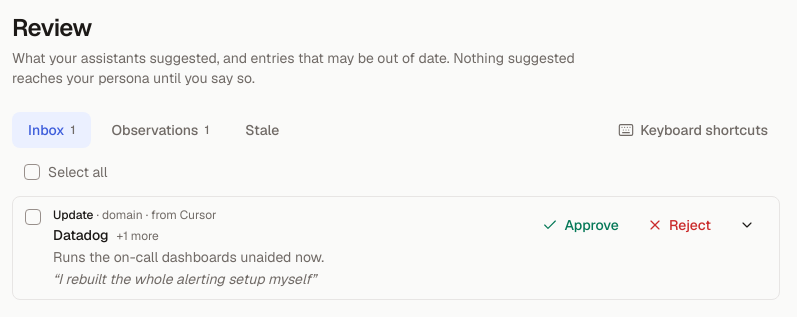
Test: ProposalsPanel › keeps a rejected row off the badge when the poll lands inside its Undo window
Expected: the tab "Inbox 1" is shown, left=12, top=112, right=91, bottom=148
Click the button "reject ". click: (679, 225)
box: left=635, top=207, right=723, bottom=243
Wait 6000 ms
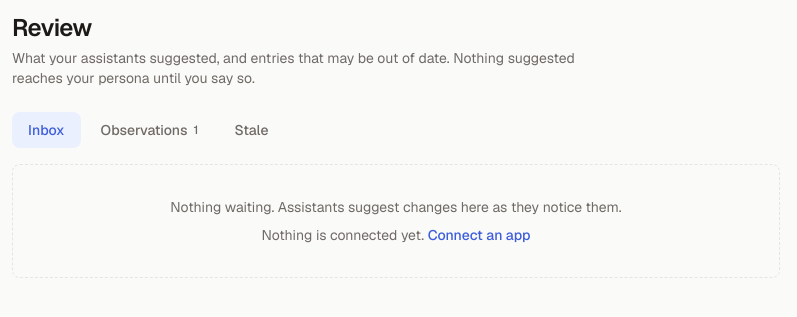
Expected: the tab "Inbox" does not show "1", left=12, top=112, right=80, bottom=148
Expected: the button "reject " is gone
